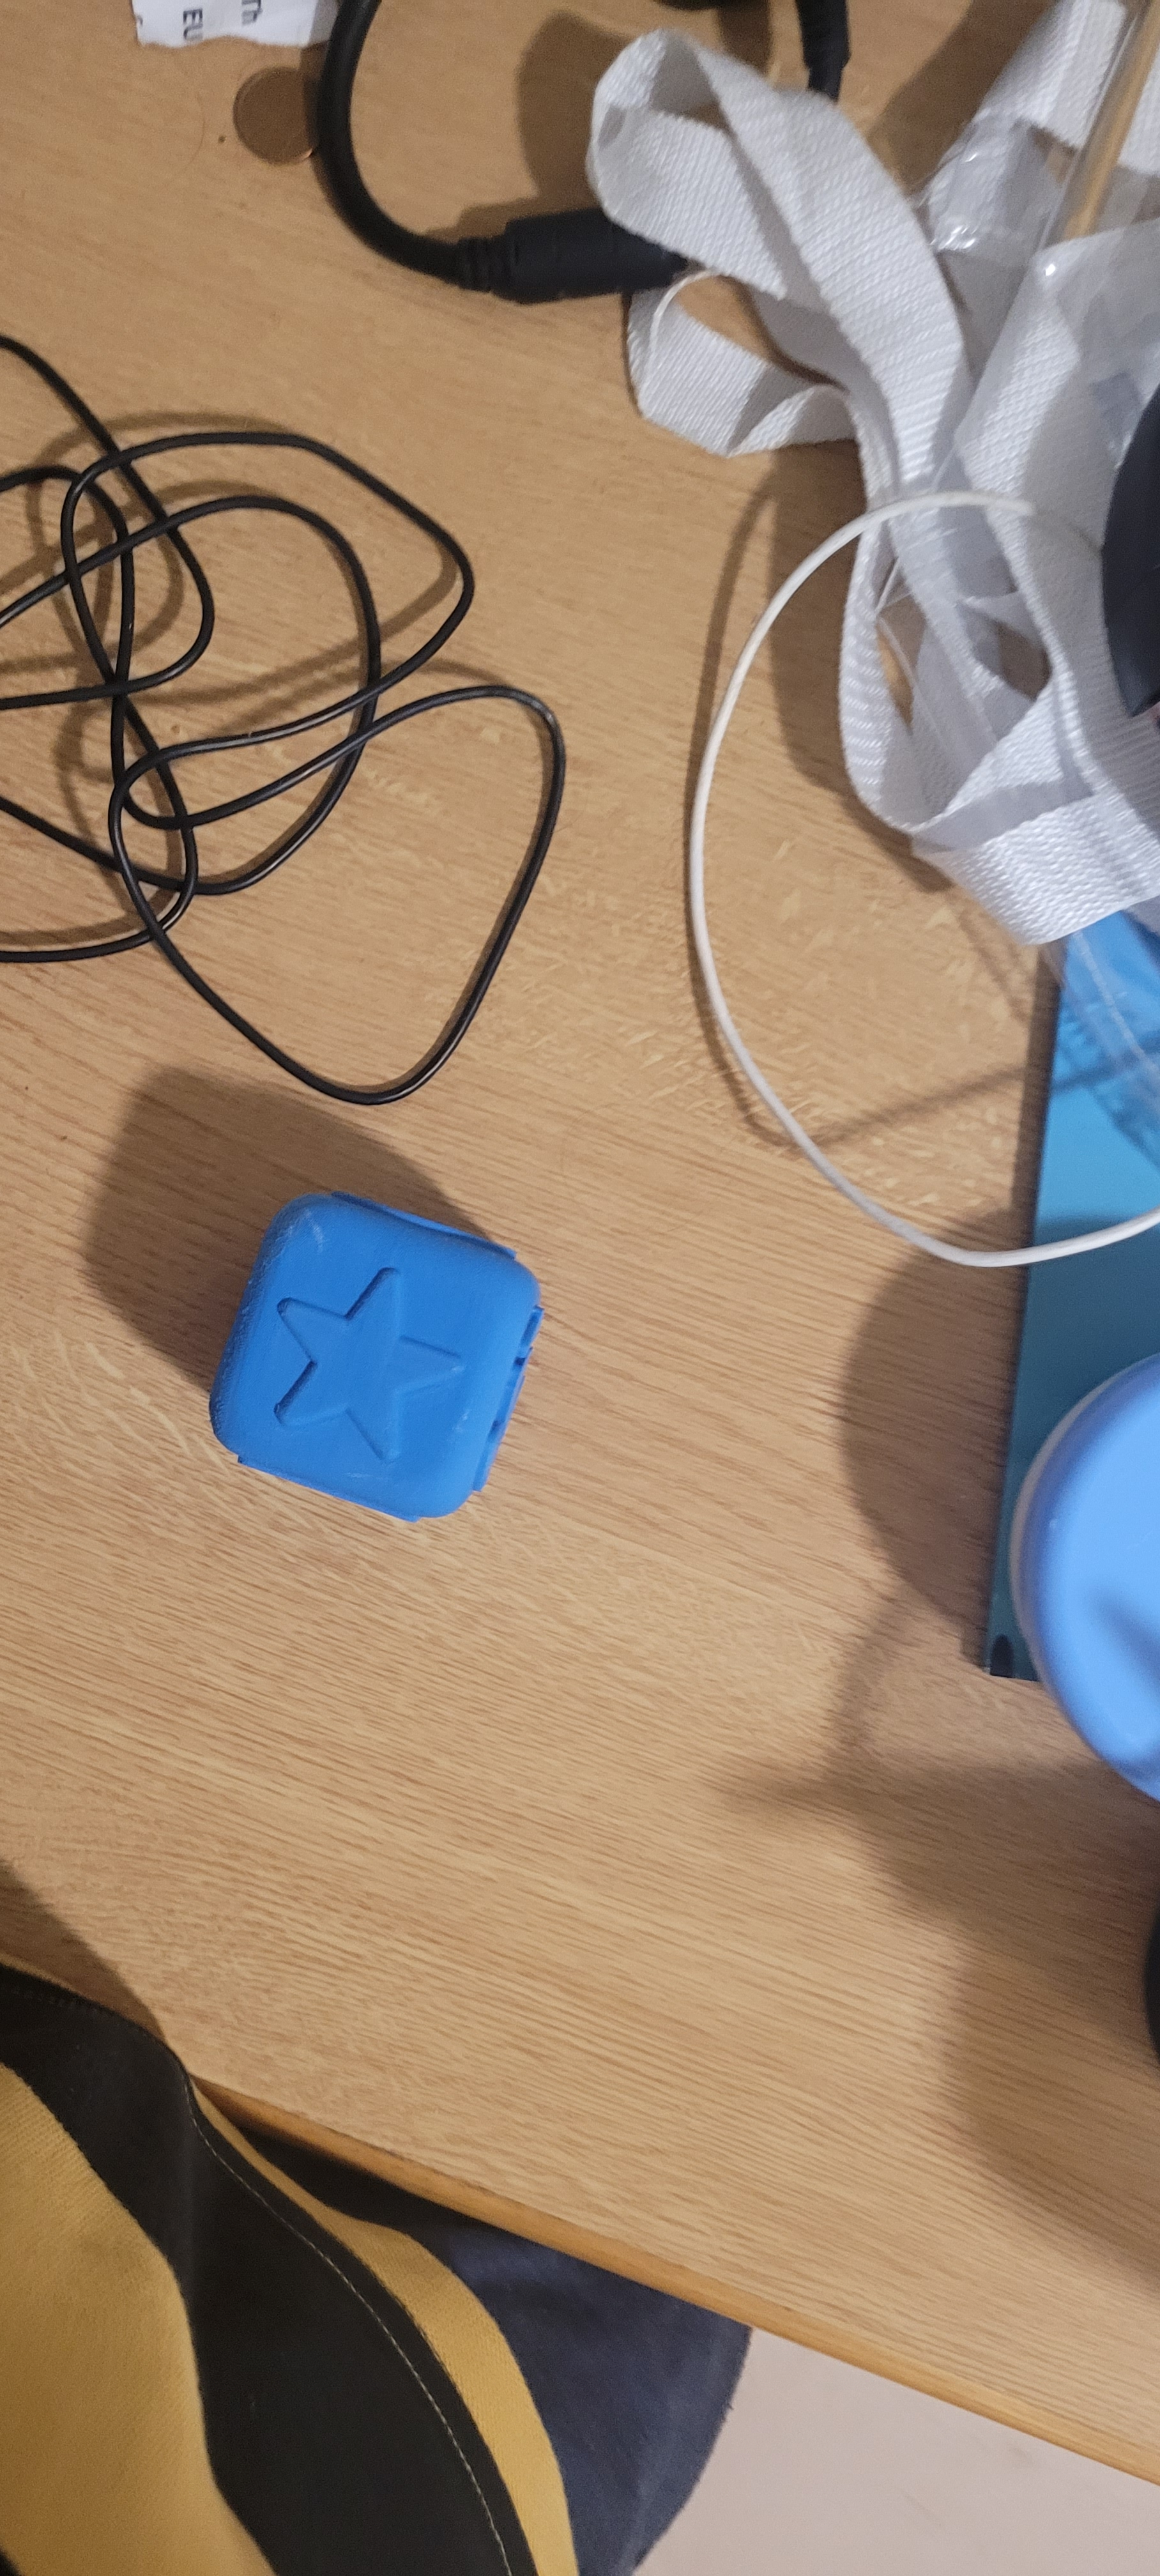Star: (228, 1158, 545, 1483)
